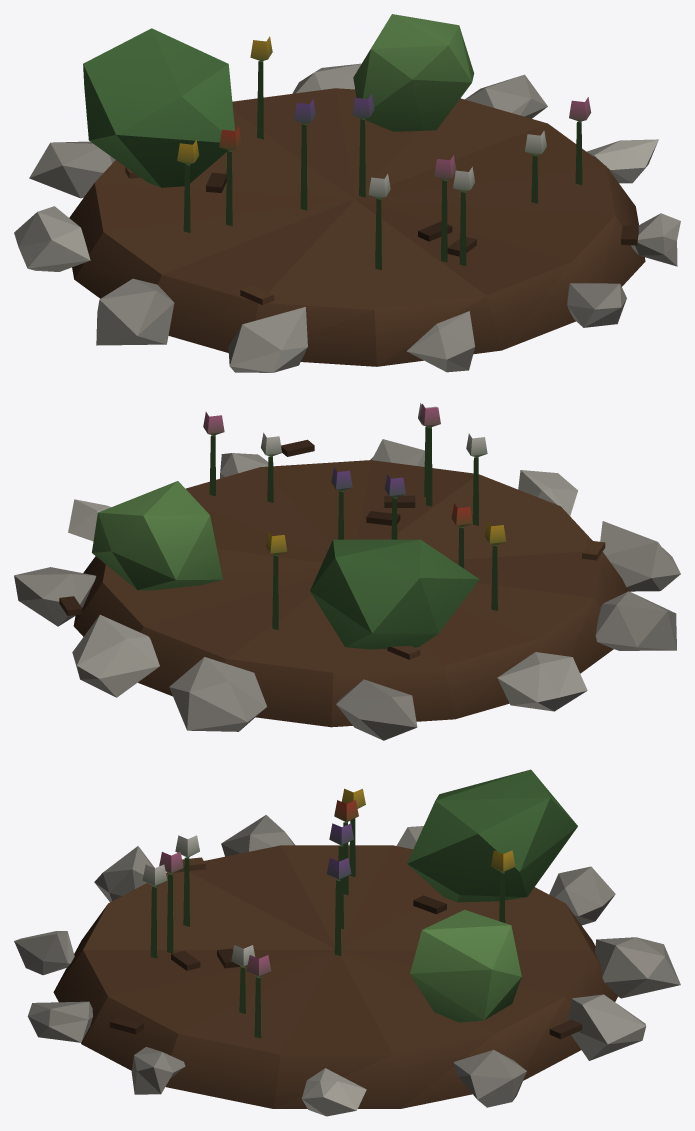
The model's file is flower_bed.glb.
3 views of the same model, one above another, from view 1: azimuth 30°, elevation 25°; view 2: azimuth 150°, elevation 25°; view 3: azimuth 270°, elevation 25° (orthographic). The views are drawn at different scales.
Parts seen in each view (by area): view 1: flower_bed; view 2: flower_bed; view 3: flower_bed.
Boxes of the visible parts, x1=… form: flower_bed: x1=14, y1=14, x2=680, y2=372; flower_bed: x1=14, y1=403, x2=680, y2=740; flower_bed: x1=14, y1=769, x2=680, y2=1116.
Size of the model in its own units: 2.13 by 0.5459 by 2.15.
